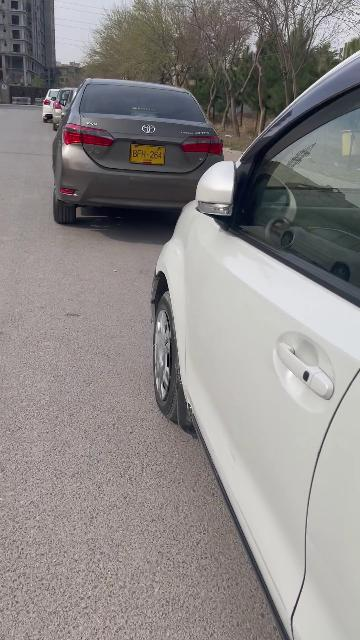plate: (131, 144, 165, 164)
